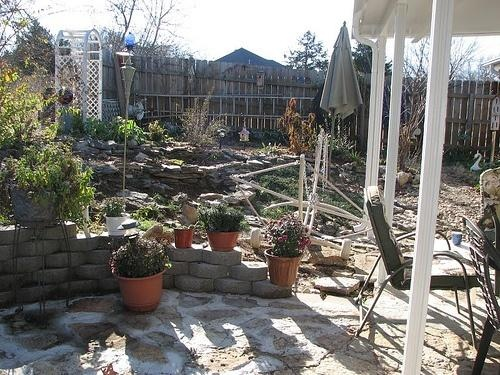chair: (355, 184, 481, 354), (461, 171, 500, 375)
pottedplant: (6, 143, 95, 230), (111, 232, 171, 315), (263, 209, 311, 289), (199, 200, 246, 254), (171, 198, 195, 251)
